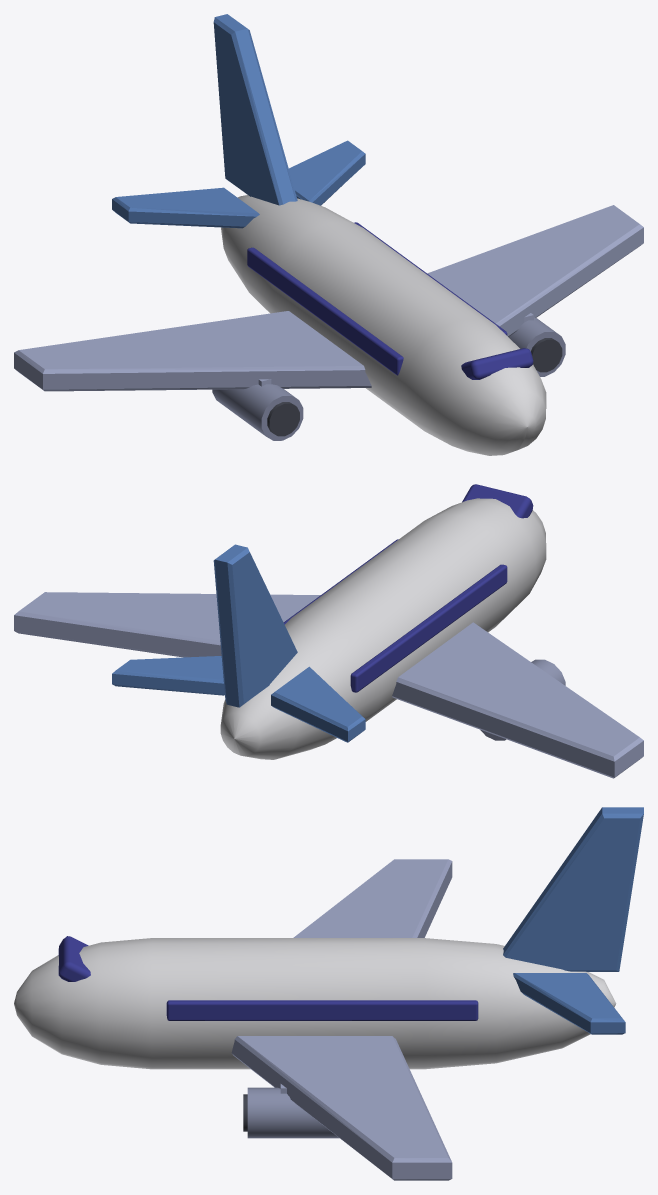
Rendered from aviao.glb.
3 renders of one model, top to bottom at view 1: azimuth 30°, elevation 25°; view 2: azimuth 150°, elevation 25°; view 3: azimuth 270°, elevation 25°, orthographic. The views are drawn at different scales.
Parts seen in each view (by area): view 1: modelo; view 2: modelo; view 3: modelo.
Part boxes in pixels (bbox=[...]): modelo: bbox=[14, 14, 643, 455]; modelo: bbox=[14, 484, 643, 778]; modelo: bbox=[14, 807, 643, 1180].
Size of the model in its own units: 4.2 by 1.69 by 3.7.
